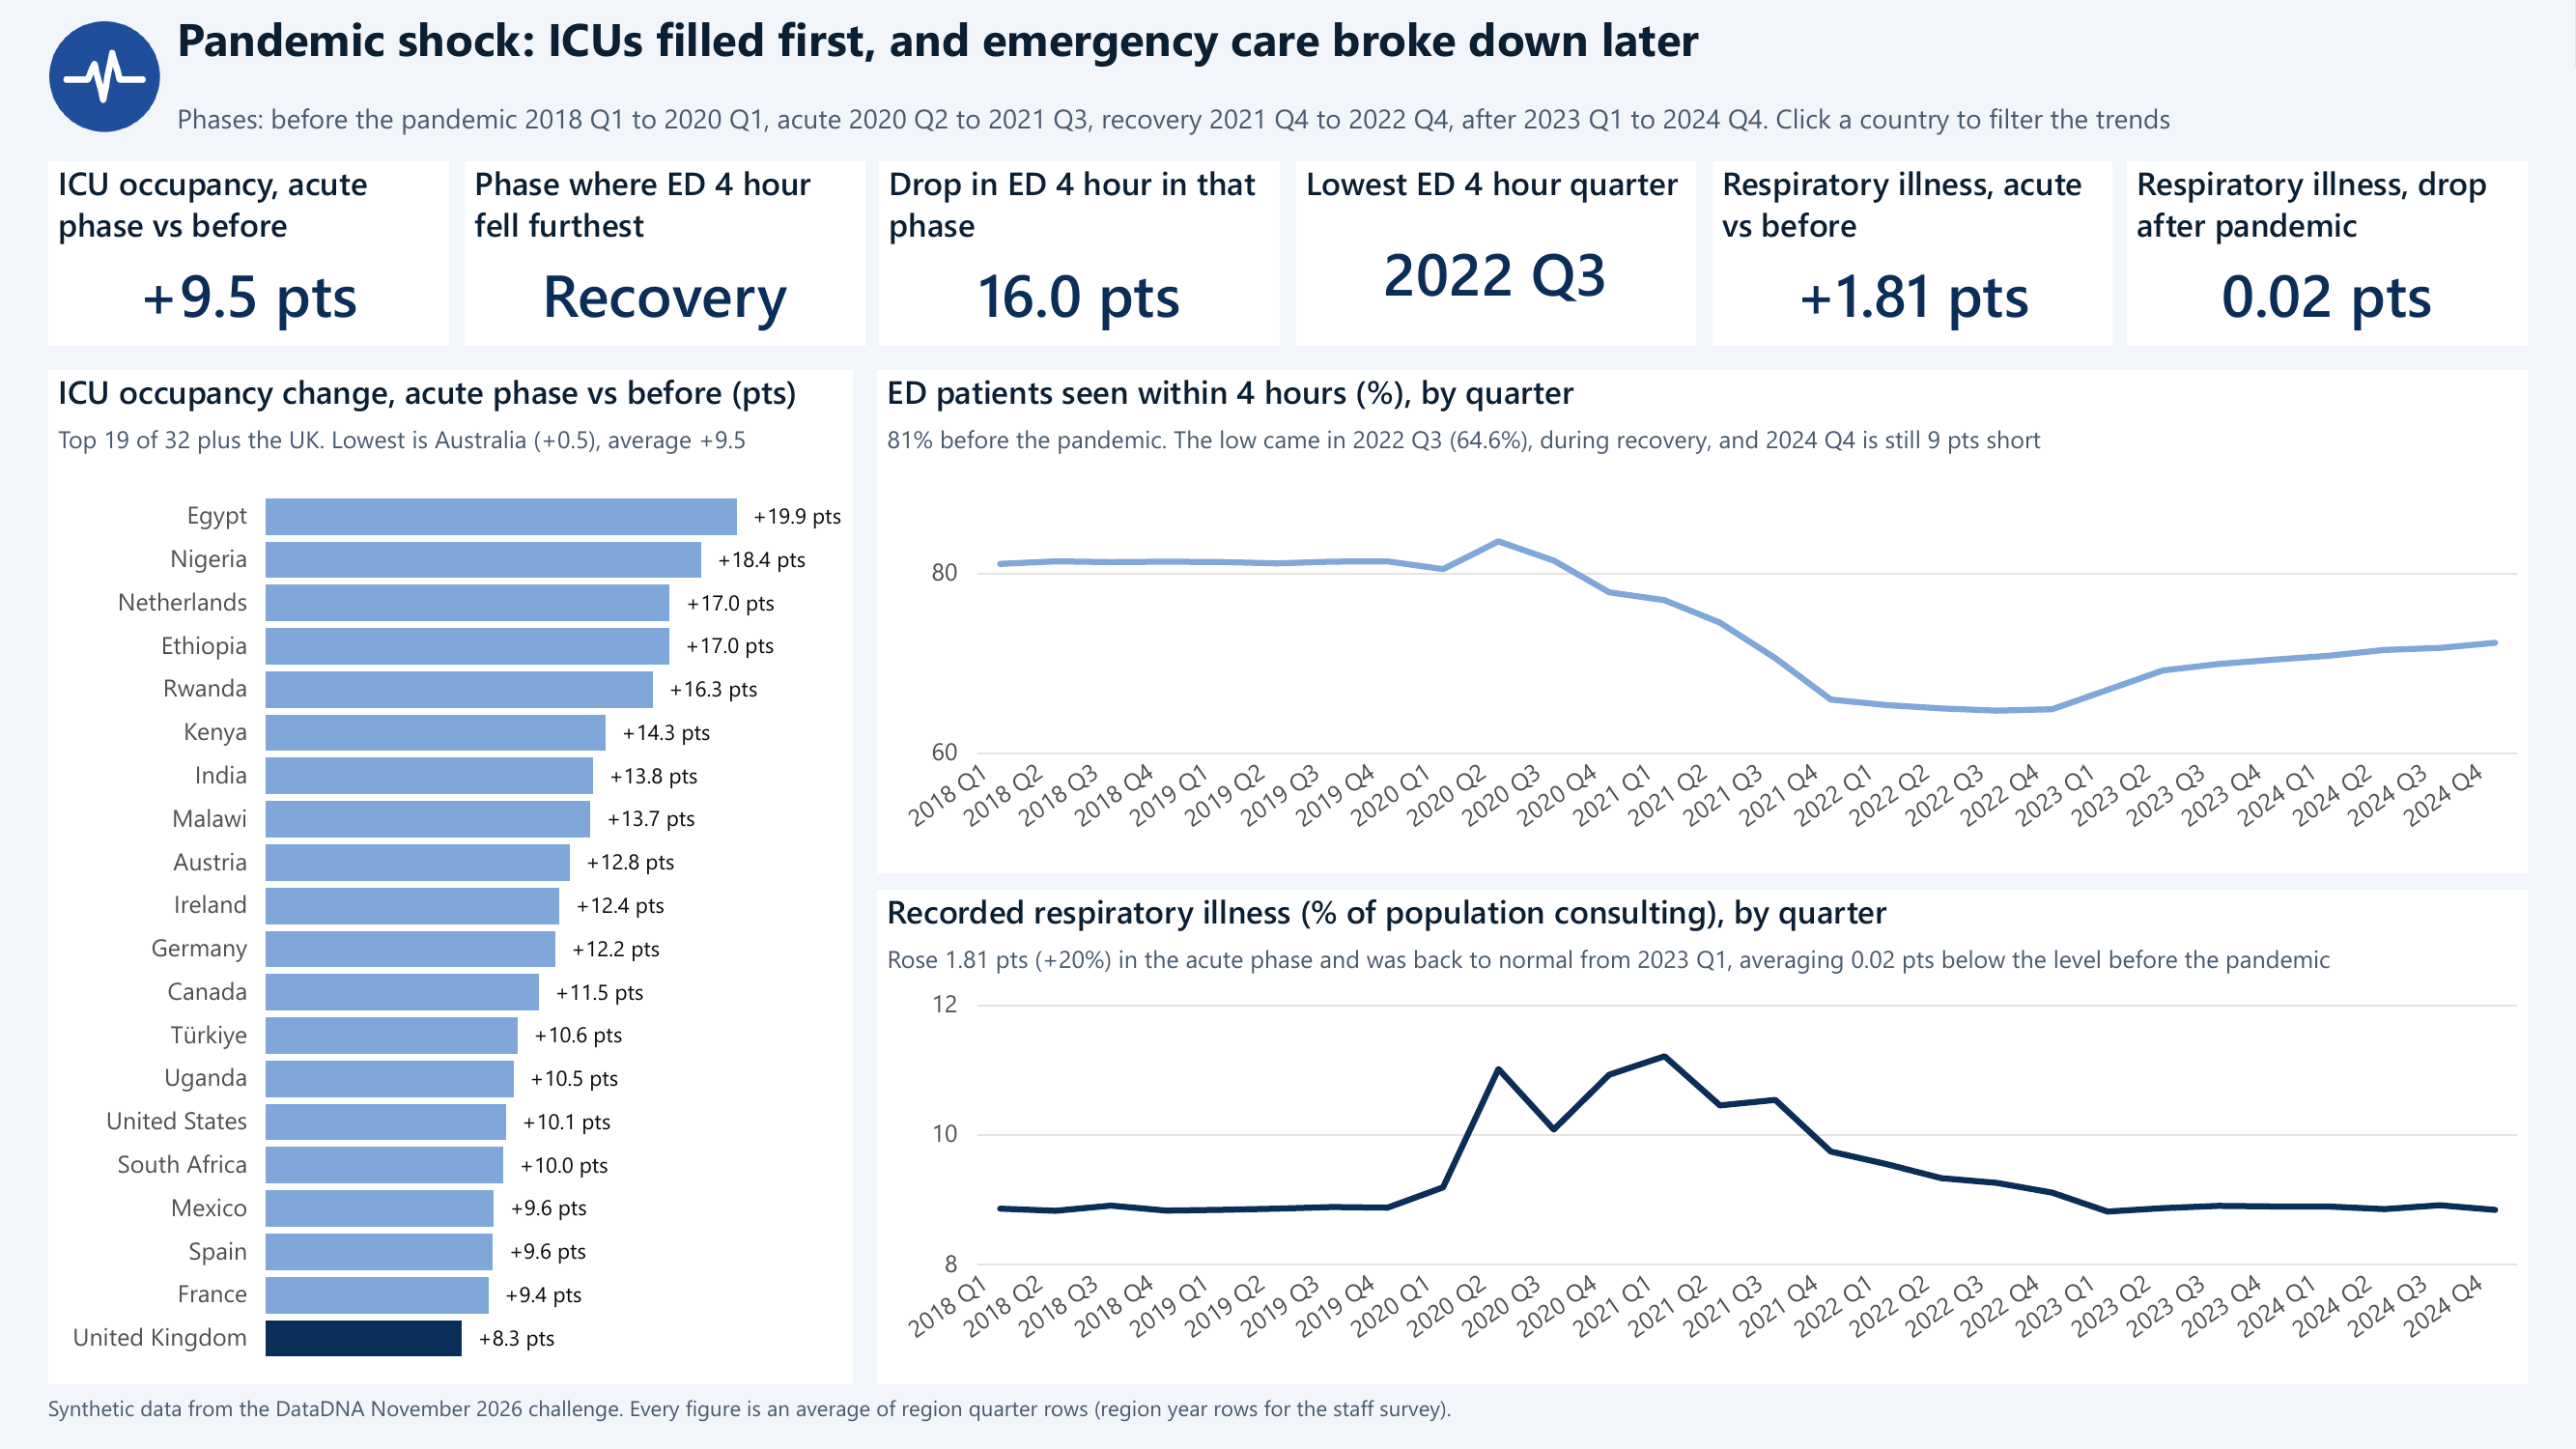

Layout of this report page (visuals, bound fields, positions):
{"tool":"powerbi","page":{"name":"Pandemic Shock","canvas":[1280,720],"ordinal":1},"visuals":[{"type":"image","box":[24,10,56,56],"z":1000},{"type":"textbox","box":[88,4,1168,46],"z":1001},{"type":"textbox","box":[88,50,1168,26],"z":1002},{"type":"textbox","box":[24,690,1232,28],"z":1003},{"type":"card","title":"ICU occupancy, acute phase vs before","fields":{"Values":["_Measures.ICU Change Acute vs Pre"]},"box":[24,80,199,92],"z":1004},{"type":"card","title":"Phase where ED 4 hour fell furthest","fields":{"Values":["_Measures.ED Worst Phase"]},"box":[231,80,199,92],"z":1005},{"type":"card","title":"Drop in ED 4 hour in that phase","fields":{"Values":["_Measures.ED Worst Phase Drop"]},"box":[437,80,199,92],"z":1006},{"type":"card","title":"Lowest ED 4 hour quarter","fields":{"Values":["_Measures.ED Lowest Quarter"]},"box":[644,80,199,92],"z":1007},{"type":"card","title":"Respiratory illness, acute vs before","fields":{"Values":["_Measures.Respiratory Rise in Acute Phase"]},"box":[851,80,199,92],"z":1008},{"type":"card","title":"Respiratory illness, drop after pandemic","fields":{"Values":["_Measures.Respiratory Post vs Pre"]},"box":[1057,80,199,92],"z":1009},{"type":"barChart","title":"ICU occupancy change, acute phase vs before (pts)","fields":{"Category":["dim_country.country_name"],"Y":["_Measures.ICU Change Chart"]},"box":[24,184,400,504],"z":1010},{"type":"lineChart","title":"ED patients seen within 4 hours (%), by quarter","fields":{"Category":["dim_date.year_quarter"],"Y":["_Measures.Avg ED 4 Hour %"]},"box":[436,184,820,250],"z":1011},{"type":"lineChart","title":"Recorded respiratory illness (% of population consulting), by quarter","fields":{"Category":["dim_date.year_quarter"],"Y":["_Measures.Avg Respiratory Illness %"]},"box":[436,442,820,246],"z":1012}]}

Visuals, with their boxes in screenshot pixels (x1, y1, x2, y2), scaled from the page's 1280x720 canvas onto the 2576x1449 screenshot:
image: pyautogui.locateOnScreen(48, 20, 161, 133)
textbox: pyautogui.locateOnScreen(177, 8, 2528, 100)
textbox: pyautogui.locateOnScreen(177, 100, 2528, 153)
textbox: pyautogui.locateOnScreen(48, 1389, 2528, 1445)
"ICU occupancy, acute phase vs before" card: pyautogui.locateOnScreen(48, 161, 449, 346)
"Phase where ED 4 hour fell furthest" card: pyautogui.locateOnScreen(465, 161, 865, 346)
"Drop in ED 4 hour in that phase" card: pyautogui.locateOnScreen(880, 161, 1280, 346)
"Lowest ED 4 hour quarter" card: pyautogui.locateOnScreen(1296, 161, 1696, 346)
"Respiratory illness, acute vs before" card: pyautogui.locateOnScreen(1713, 161, 2113, 346)
"Respiratory illness, drop after pandemic" card: pyautogui.locateOnScreen(2127, 161, 2528, 346)
"ICU occupancy change, acute phase vs before (pts)" barChart: pyautogui.locateOnScreen(48, 370, 853, 1384)
"ED patients seen within 4 hours (%), by quarter" lineChart: pyautogui.locateOnScreen(877, 370, 2528, 873)
"Recorded respiratory illness (% of population consulting), by quarter" lineChart: pyautogui.locateOnScreen(877, 890, 2528, 1384)
